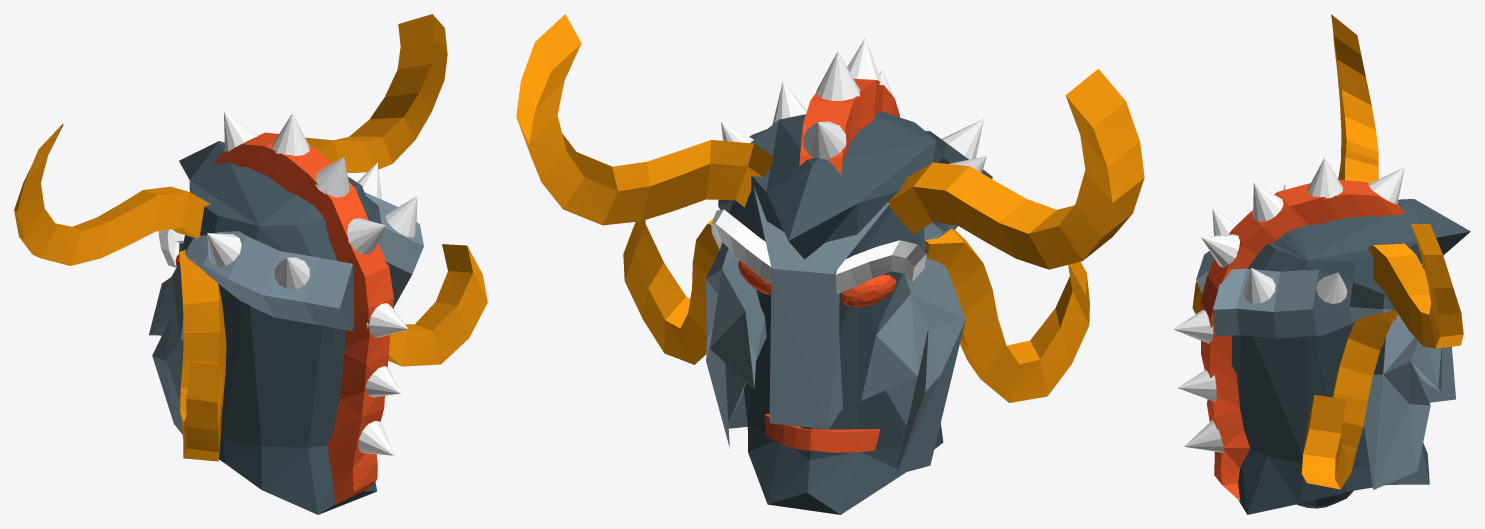
File: giantHead.dae
3 renders of one model, left to right at view 1: azimuth 30°, elevation 25°; view 2: azimuth 150°, elevation 25°; view 3: azimuth 270°, elevation 25°, orthographic. The views are drawn at different scales.
Visible parts, largest first — view 1: giantHead; view 2: giantHead; view 3: giantHead.
Part boxes in pixels (x1,y1,x2,y2): giantHead: (14, 14, 487, 514); giantHead: (516, 14, 1144, 514); giantHead: (1173, 14, 1470, 514).
Size of the model in its own units: 0.1282 by 0.0732 by 0.1048.
